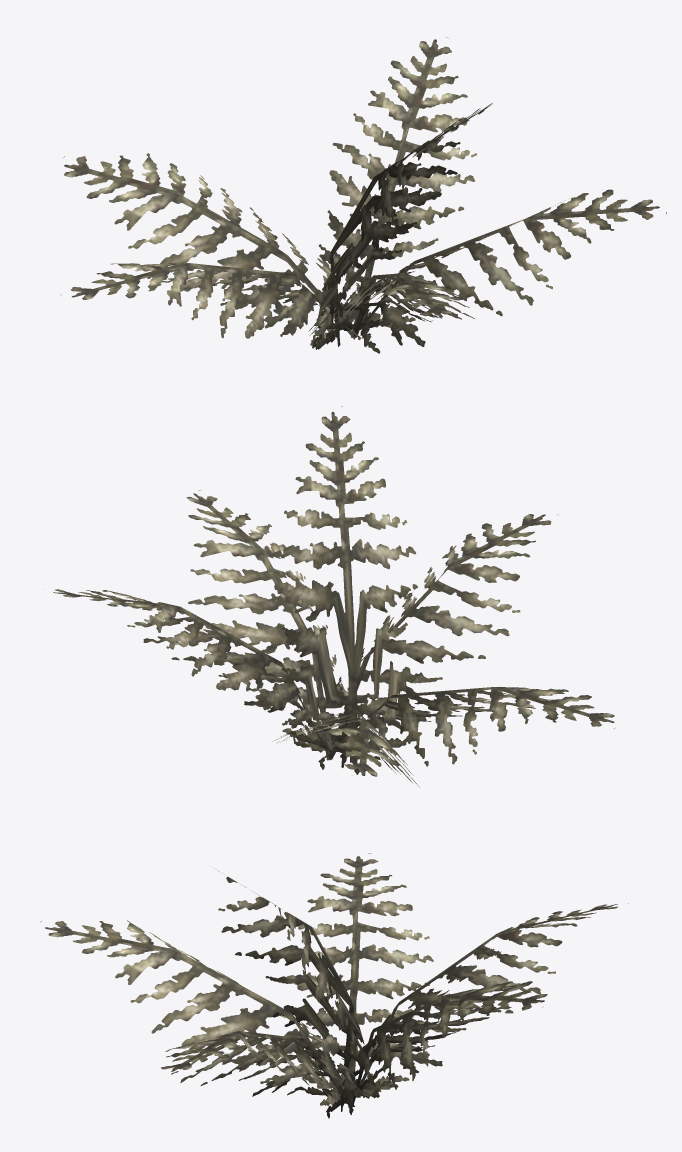
The model's file is OZ_02_ma_plant01B.glb.
The picture shows the model from 3 angles, top to bottom: view 1: azimuth 30°, elevation 25°; view 2: azimuth 150°, elevation 25°; view 3: azimuth 270°, elevation 25°; orthographic projection. The views are drawn at different scales.
Visible parts, largest first — view 1: OM_02_ma_plant01B; view 2: OM_02_ma_plant01B; view 3: OM_02_ma_plant01B.
Part boxes in pixels (box(x1,y1,x2,y2)): OM_02_ma_plant01B: box(60, 37, 666, 353); OM_02_ma_plant01B: box(53, 406, 614, 787); OM_02_ma_plant01B: box(40, 853, 628, 1118).
Bounding box in the file's own units: 2.09 × 1.05 × 2.09.
1 material, 1 textured.
